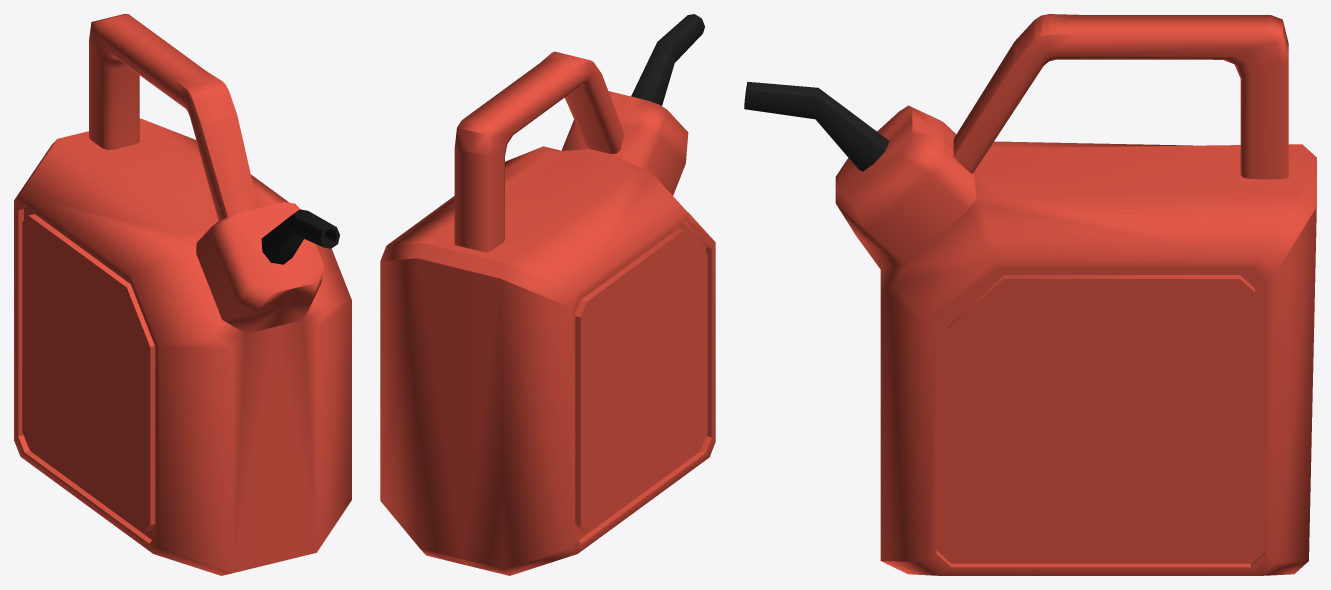
The model's file is Gasoline.fbx.
3 renders of one model, left to right at view 1: azimuth 30°, elevation 25°; view 2: azimuth 150°, elevation 25°; view 3: azimuth 270°, elevation 25°, orthographic. The views are drawn at different scales.
Visible parts, largest first — view 1: Gasoline; view 2: Gasoline; view 3: Gasoline.
Part boxes in pixels (left/top/right/bottom): Gasoline: left=14, top=14, right=351, bottom=575; Gasoline: left=380, top=14, right=715, bottom=575; Gasoline: left=744, top=14, right=1316, bottom=575.
Size of the model in its own units: 83.7 by 181 by 179.
